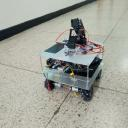cart: (39, 39, 105, 101)
